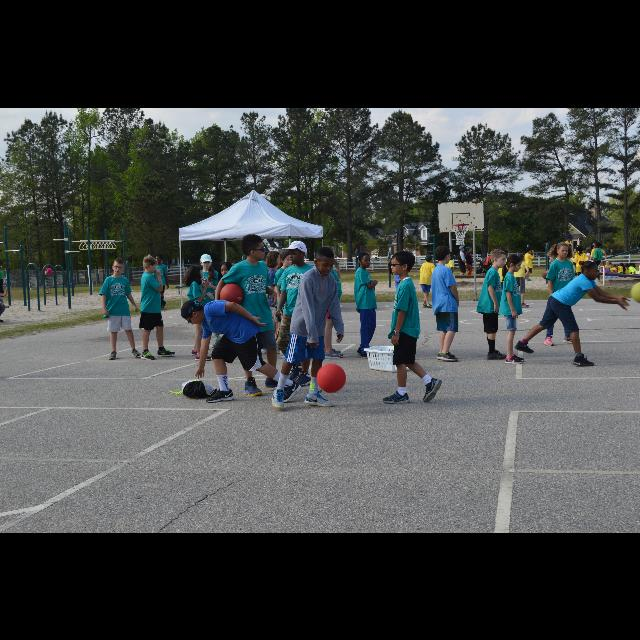head: (314, 244, 336, 276), (242, 234, 266, 260), (390, 250, 412, 274), (182, 300, 202, 324), (288, 240, 306, 264), (581, 260, 599, 280), (435, 244, 451, 264), (491, 248, 507, 268), (142, 255, 158, 273), (507, 254, 523, 272), (112, 258, 126, 274), (280, 250, 294, 266), (268, 250, 282, 266), (189, 264, 203, 278), (359, 252, 371, 268), (556, 241, 568, 257), (200, 254, 212, 268), (220, 262, 232, 276), (322, 246, 333, 258), (446, 250, 454, 260), (425, 254, 433, 262), (566, 233, 572, 240), (526, 247, 532, 253), (594, 241, 600, 247), (46, 262, 52, 268), (460, 246, 466, 250), (578, 245, 582, 251), (624, 264, 630, 268), (468, 246, 472, 250), (619, 262, 623, 266), (613, 264, 617, 268), (606, 260, 610, 264), (6, 268, 10, 272), (0, 266, 2, 270)
person: (178, 298, 302, 402), (514, 260, 632, 366), (270, 245, 346, 409), (226, 232, 292, 396), (379, 249, 443, 405), (274, 240, 316, 390), (97, 257, 139, 365), (136, 254, 178, 362), (542, 241, 584, 347), (430, 244, 462, 360), (497, 252, 529, 362), (477, 248, 508, 360), (272, 249, 302, 357), (319, 244, 346, 360), (182, 264, 212, 362), (353, 250, 379, 358), (264, 248, 288, 358), (215, 260, 238, 358), (142, 250, 172, 322), (197, 252, 219, 350), (441, 248, 461, 310), (419, 252, 436, 310), (574, 242, 590, 282), (562, 232, 576, 274), (590, 240, 604, 276), (524, 244, 536, 282), (456, 243, 468, 280), (466, 244, 476, 278), (44, 262, 52, 294), (624, 262, 638, 280), (616, 260, 628, 280), (4, 266, 12, 296), (610, 262, 618, 280), (604, 260, 612, 278), (0, 264, 4, 297)
